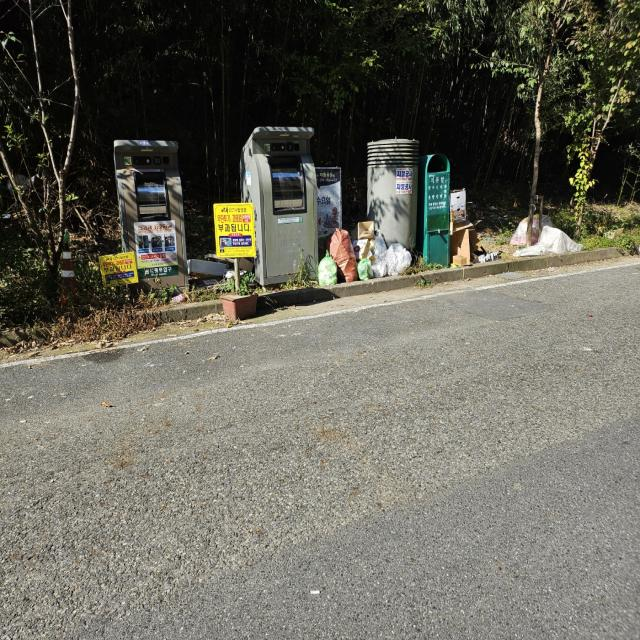CleanNet: (114, 139, 191, 294), (246, 126, 319, 282)
General Waste: (354, 228, 415, 282), (513, 215, 577, 260), (450, 191, 478, 272)
PP bag: (329, 224, 358, 286)
